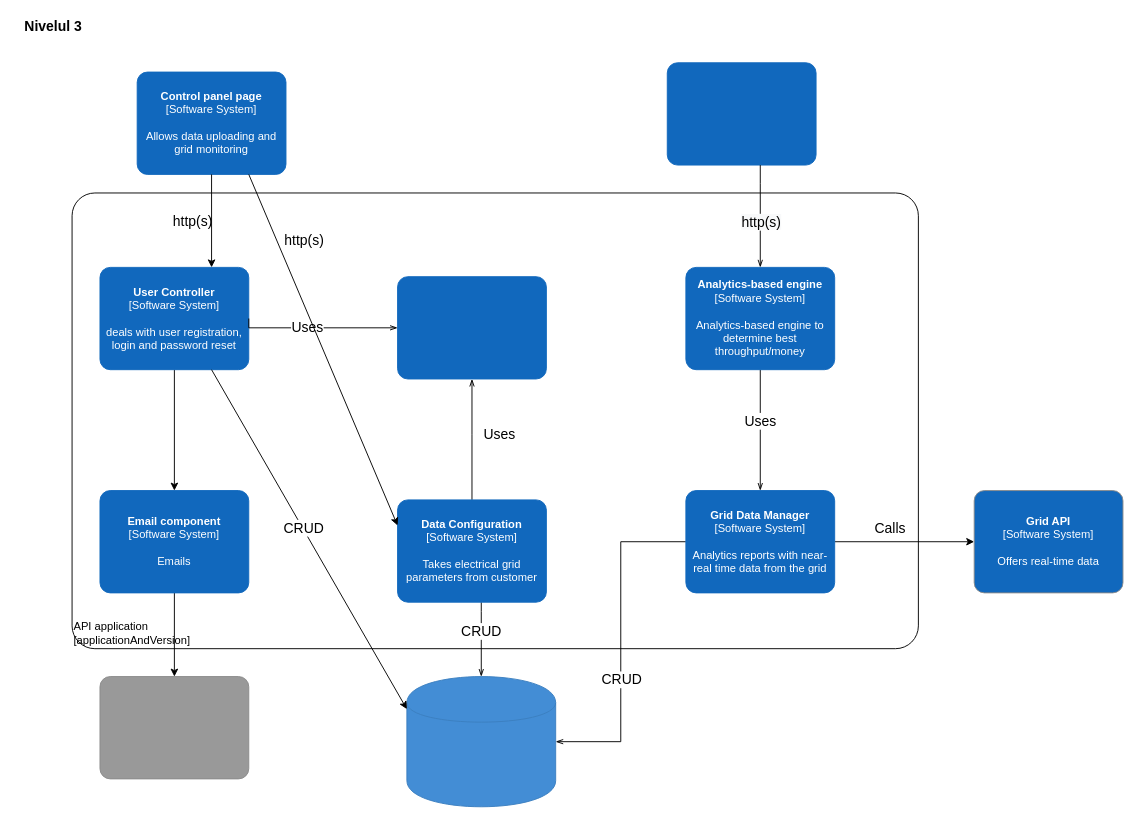
This 1139x823 diagram has some shape labels left out. Here are the shapes that lost their labels. From the top down, the centre of each, then its label:
At [741,113]: "Grid management interface [Software System] Takes data and shows charts".
At [471,327]: "Security Middleware [Software System] Security checking".
At [174,727]: "Email system [Software System] Description".
At [481,741]: "Database [Container: Technology] Description".
